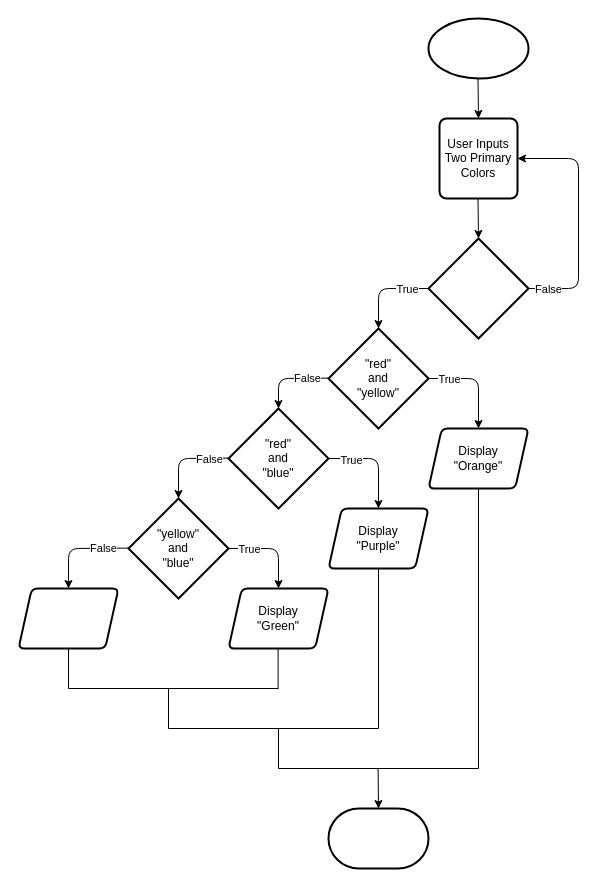
Image size: 604x886. Some labels were removed from this diagram. The centre of each missing label's shape, as x and y in pixels:
Display "Input not recognized": (x=68, y=618)
Done: (x=378, y=838)
Inputs == "red," "blue," or "yellow": (x=478, y=288)
Start: (x=478, y=48)
